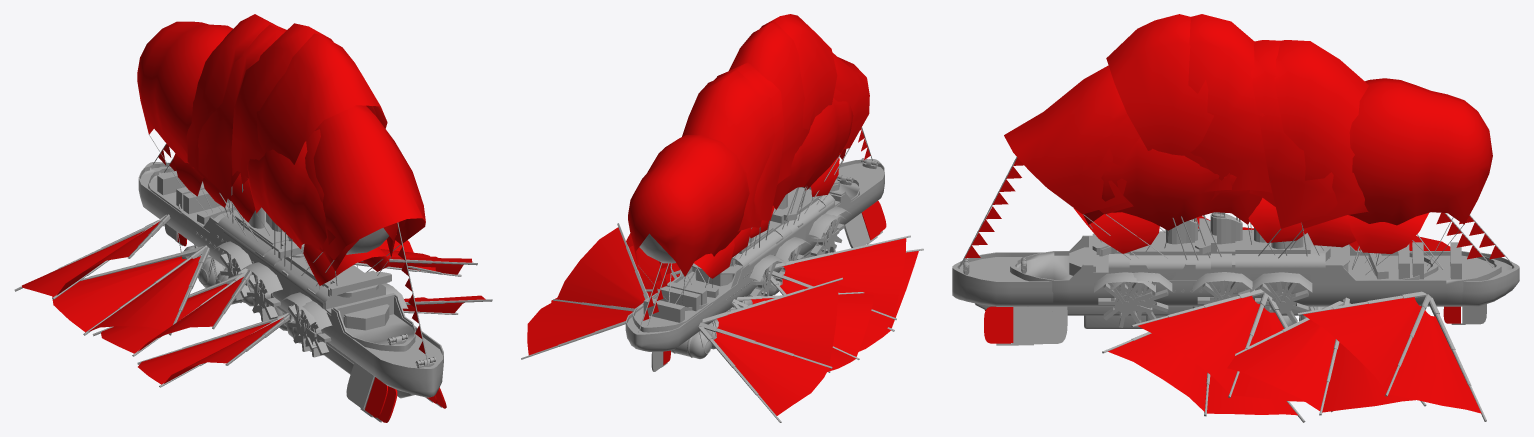
File: ship_merchant_sloop.fbx
3 views of the same model, side by side, from view 1: azimuth 30°, elevation 25°; view 2: azimuth 150°, elevation 25°; view 3: azimuth 270°, elevation 25° (orthographic). The views are drawn at different scales.
Visible parts, largest first — view 1: cargo_ship, sails, Schooner, merchant_2, wings, merchant_ship_4, cargo, rudders; view 2: cargo_ship, Schooner, sails, merchant_2, merchant_ship_4, cargo, wings; view 3: cargo_ship, Schooner, sails, merchant_2, merchant_ship_4, wings, cargo, rudders.
Part boxes in pixels (x1=…): cargo_ship: x1=14, y1=14, x2=477, y2=409; sails: x1=164, y1=24, x2=425, y2=357; Schooner: x1=52, y1=21, x2=441, y2=355; merchant_2: x1=148, y1=166, x2=437, y2=417; wings: x1=137, y1=295, x2=492, y2=387; merchant_ship_4: x1=173, y1=153, x2=389, y2=343; cargo: x1=157, y1=171, x2=235, y2=224; rudders: x1=175, y1=233, x2=446, y2=422; cargo_ship: x1=521, y1=22, x2=910, y2=422; Schooner: x1=551, y1=98, x2=873, y2=371; sails: x1=647, y1=14, x2=869, y2=325; merchant_2: x1=632, y1=174, x2=880, y2=349; merchant_ship_4: x1=659, y1=156, x2=839, y2=309; cargo: x1=643, y1=281, x2=718, y2=322; wings: x1=676, y1=248, x2=923, y2=372; cargo_ship: x1=952, y1=14, x2=1519, y2=421; Schooner: x1=1083, y1=78, x2=1492, y2=415; sails: x1=1004, y1=14, x2=1493, y2=327; merchant_2: x1=1010, y1=230, x2=1501, y2=345; merchant_ship_4: x1=1073, y1=198, x2=1435, y2=318; wings: x1=1102, y1=332, x2=1305, y2=422; cargo: x1=1368, y1=242, x2=1461, y2=279; rudders: x1=984, y1=306, x2=1465, y2=345.
Bounding box in the file's own units: 1720 × 1675 × 2472.
